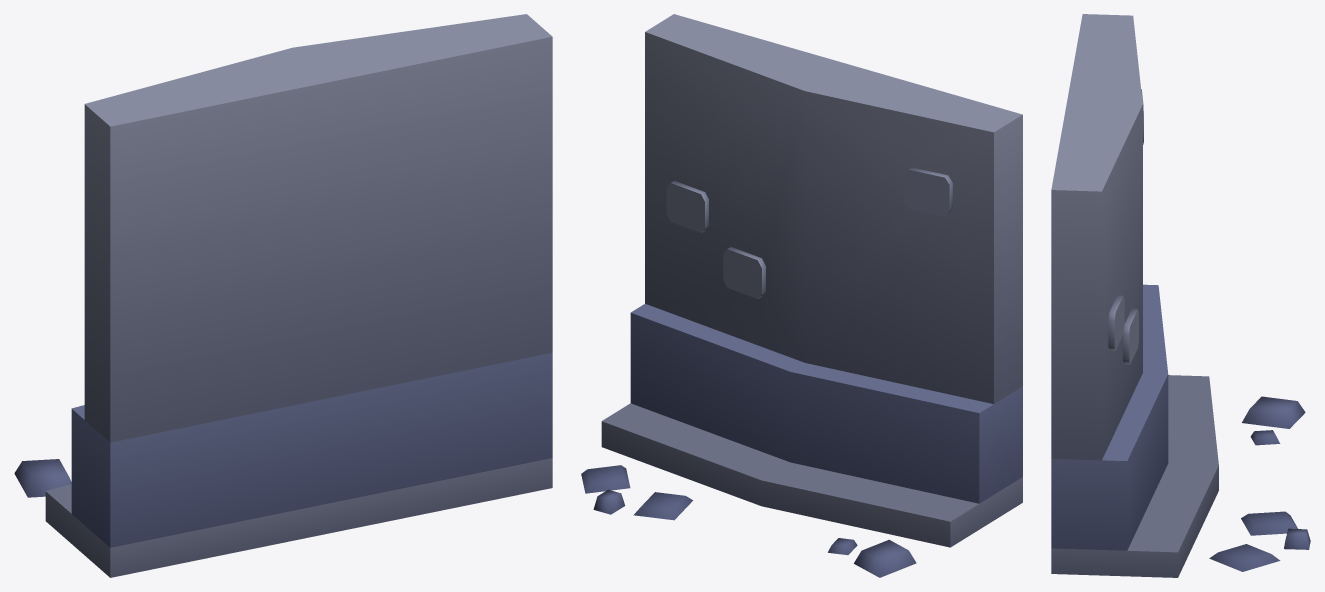
Rendered from template-wall.010.006_lev1.glb.
The picture shows the model from 3 angles, left to right: view 1: azimuth 30°, elevation 25°; view 2: azimuth 150°, elevation 25°; view 3: azimuth 270°, elevation 25°; orthographic projection. The views are drawn at different scales.
Parts seen in each view (by area): view 1: template-wall.010.006_lev1; view 2: template-wall.010.006_lev1; view 3: template-wall.010.006_lev1.
Part boxes in pixels (<box>): template-wall.010.006_lev1: <box>14,14,552,577</box>; template-wall.010.006_lev1: <box>581,14,1022,577</box>; template-wall.010.006_lev1: <box>1051,14,1310,577</box>.
Bounding box in the file's own units: 5.33 × 5.3 × 3.24.
Materials: 1 (1 with a texture image).
